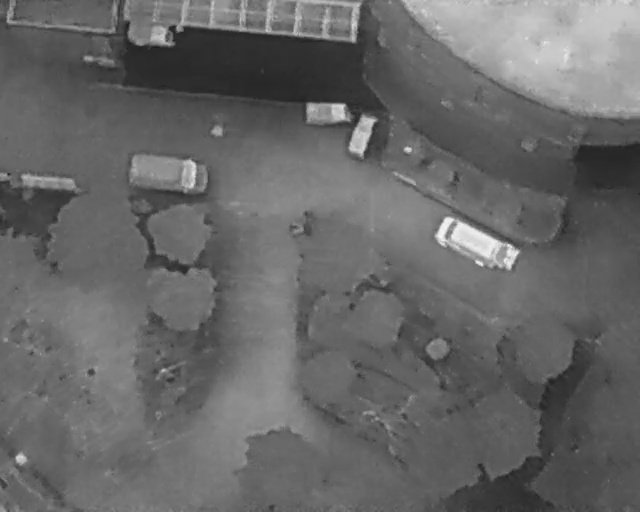Car: (431, 212, 524, 278), (125, 151, 208, 194), (345, 110, 378, 159), (303, 99, 355, 125), (125, 24, 176, 47)
